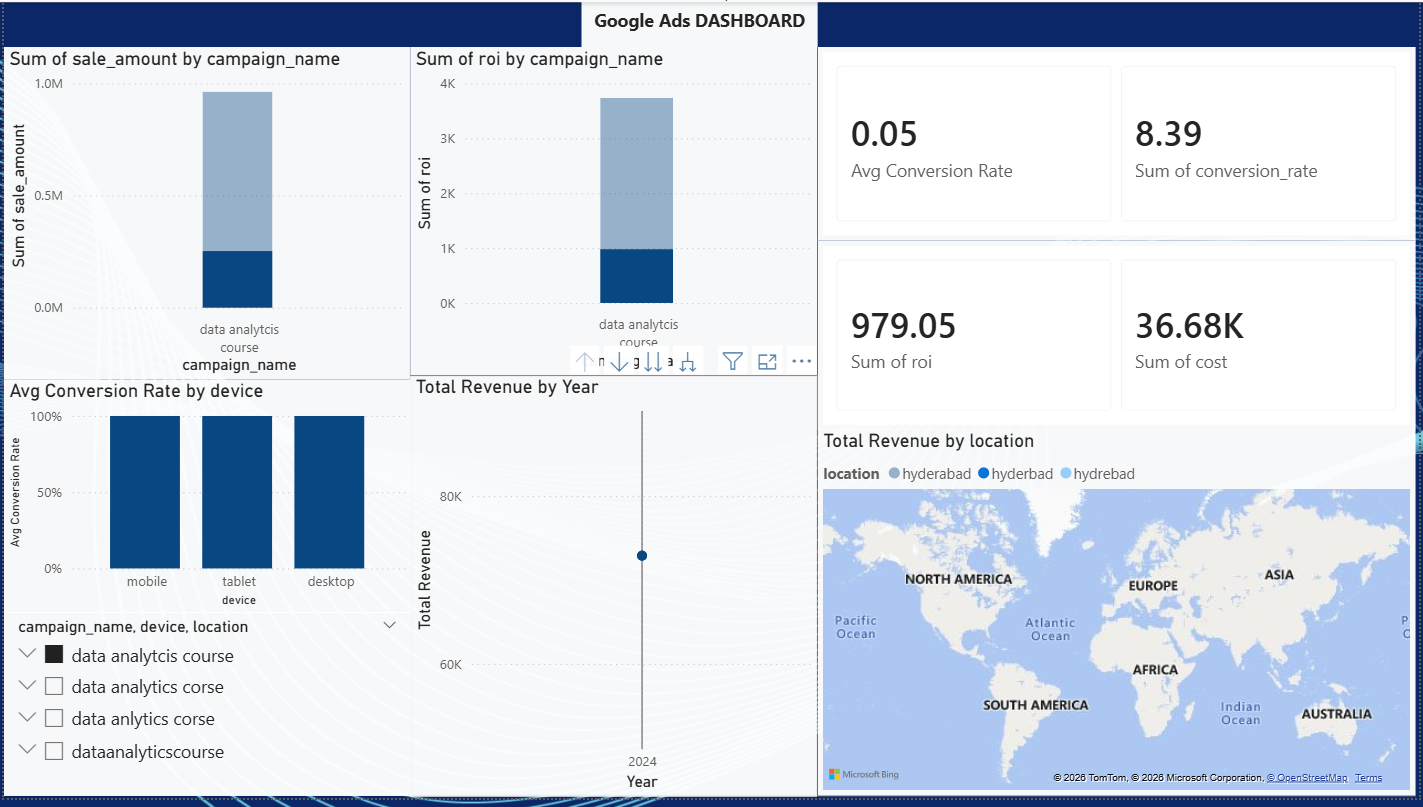

This screenshot's page, from the dashboard's own definition file:
{"tool":"powerbi","page":{"name":"Page 1","canvas":[1280,720],"ordinal":0},"visuals":[{"type":"cardVisual","fields":{"Data":["GoogleAds_Cleaned.Avg Conversion Rate","Sum(GoogleAds_Cleaned.conversion_rate)"]},"box":[677.9,40.7,598.8,175.6],"z":0},{"type":"cardVisual","fields":{"Data":["Sum(GoogleAds_Cleaned.roi)","Sum(GoogleAds_Cleaned.cost)"]},"box":[677.9,215.1,598.8,172.1],"z":1000},{"type":"clusteredColumnChart","fields":{"Category":["GoogleAds_Cleaned.campaign_name"],"Y":["Sum(GoogleAds_Cleaned.sale_amount)"]},"box":[0,40.7,367.5,300.8],"z":2000},{"type":"clusteredColumnChart","fields":{"Y":["Sum(GoogleAds_Cleaned.roi)"],"Category":["GoogleAds_Cleaned.campaign_name"]},"box":[367.4,40.7,310.5,296.5],"z":3000},{"type":"lineChart","fields":{"Y":["GoogleAds_Cleaned.Total Revenue"],"Category":["GoogleAds_Cleaned.ad_date.Variation.Date Hierarchy.Year","GoogleAds_Cleaned.ad_date.Variation.Date Hierarchy.Quarter","GoogleAds_Cleaned.ad_date.Variation.Date Hierarchy.Month","GoogleAds_Cleaned.ad_date.Variation.Date Hierarchy.Day"]},"box":[367.4,337.2,310.5,381.4],"z":4000},{"type":"hundredPercentStackedColumnChart","fields":{"Category":["GoogleAds_Cleaned.device"],"Y":["GoogleAds_Cleaned.Avg Conversion Rate"]},"box":[0,340.9,367.9,210.9],"z":5000},{"type":"slicer","fields":{"Values":["GoogleAds_Cleaned.campaign_name","GoogleAds_Cleaned.device","GoogleAds_Cleaned.location"]},"box":[0,551.8,367.9,166.5],"z":6000},{"type":"map","fields":{"Series":["GoogleAds_Cleaned.location"],"Size":["GoogleAds_Cleaned.Total Revenue"]},"box":[677.9,387.2,598.8,331.4],"z":7000},{"type":"textbox","box":[522.4,0,213.7,40.7],"z":8000}]}

Visuals, with their boxes in screenshot pixels (x1, y1, x2, y2), scaled from the page's 1280x720 canvas onto the 1423x807 screenshot:
cardVisual - GoogleAds_Cleaned.Avg Conversion Rate x Sum(GoogleAds_Cleaned.conversion_rate): (x1=754, y1=46, x2=1419, y2=242)
cardVisual - Sum(GoogleAds_Cleaned.roi) x Sum(GoogleAds_Cleaned.cost): (x1=754, y1=241, x2=1419, y2=434)
clusteredColumnChart - GoogleAds_Cleaned.campaign_name x Sum(GoogleAds_Cleaned.sale_amount): (x1=0, y1=46, x2=409, y2=383)
clusteredColumnChart - Sum(GoogleAds_Cleaned.roi) x GoogleAds_Cleaned.campaign_name: (x1=408, y1=46, x2=754, y2=378)
lineChart - GoogleAds_Cleaned.Total Revenue x GoogleAds_Cleaned.ad_date.Variation.Date Hierarchy.Year: (x1=408, y1=378, x2=754, y2=805)
hundredPercentStackedColumnChart - GoogleAds_Cleaned.device x GoogleAds_Cleaned.Avg Conversion Rate: (x1=0, y1=382, x2=409, y2=618)
slicer - GoogleAds_Cleaned.campaign_name x GoogleAds_Cleaned.device: (x1=0, y1=618, x2=409, y2=805)
map - GoogleAds_Cleaned.location x GoogleAds_Cleaned.Total Revenue: (x1=754, y1=434, x2=1419, y2=805)
textbox: (x1=581, y1=0, x2=818, y2=46)
